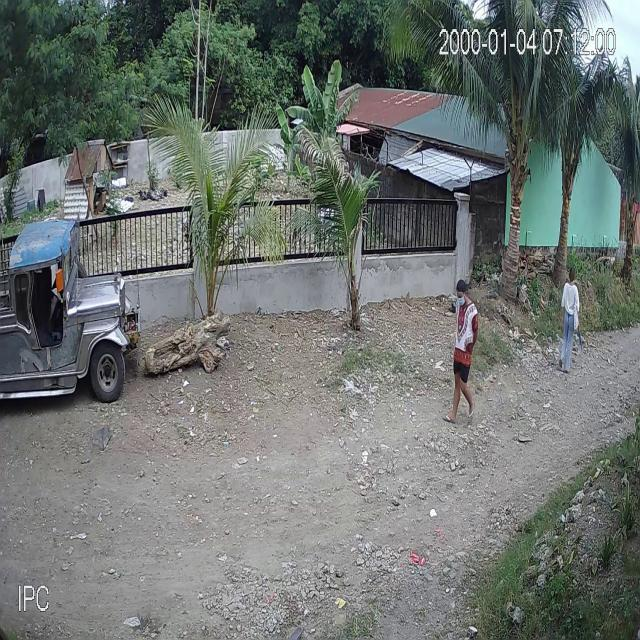walking: (440, 278, 480, 428), (555, 263, 583, 376)
